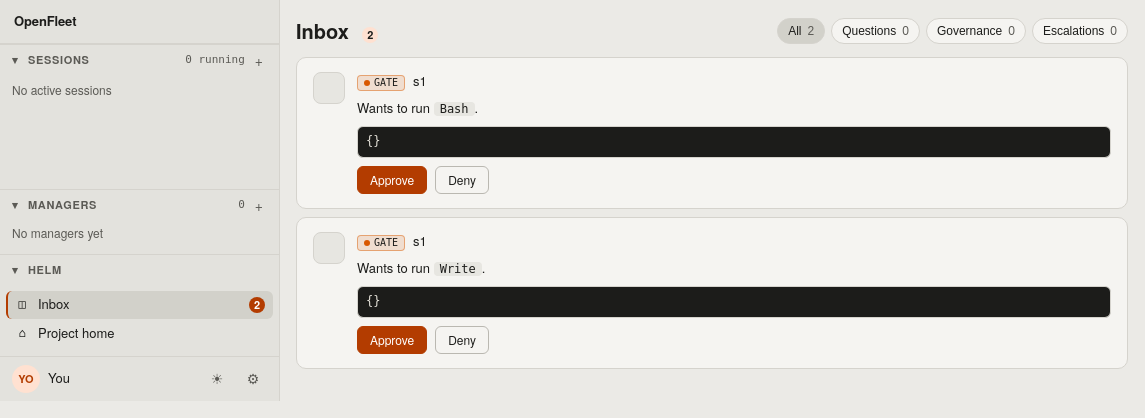
Test: AppShellComponent › drops the sidebar Inbox badge count when the Inbox dismisses an already-resolved gate
Expected: the picture with test id "nav-inbox-badge" reads "2", [254,297,260,312]
Click the button with test id "inbox-allow" below "Bash" at (392, 180), box [357,166,427,194]
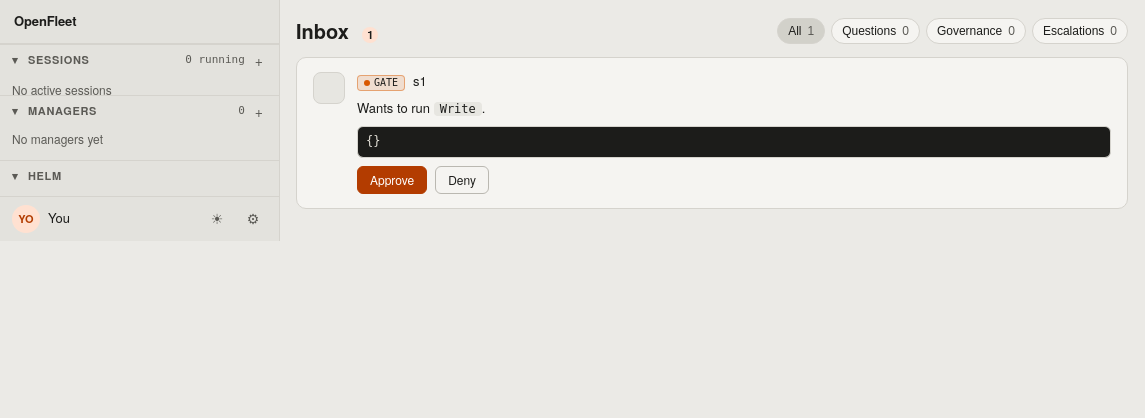
Now the number of elements with test id "inbox-gate-card" is 1, box [296,57,1128,209]
